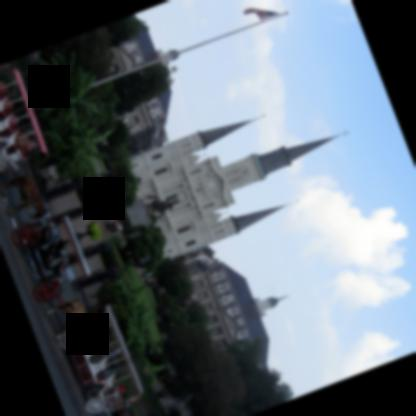handbag: (124, 403, 128, 407)
